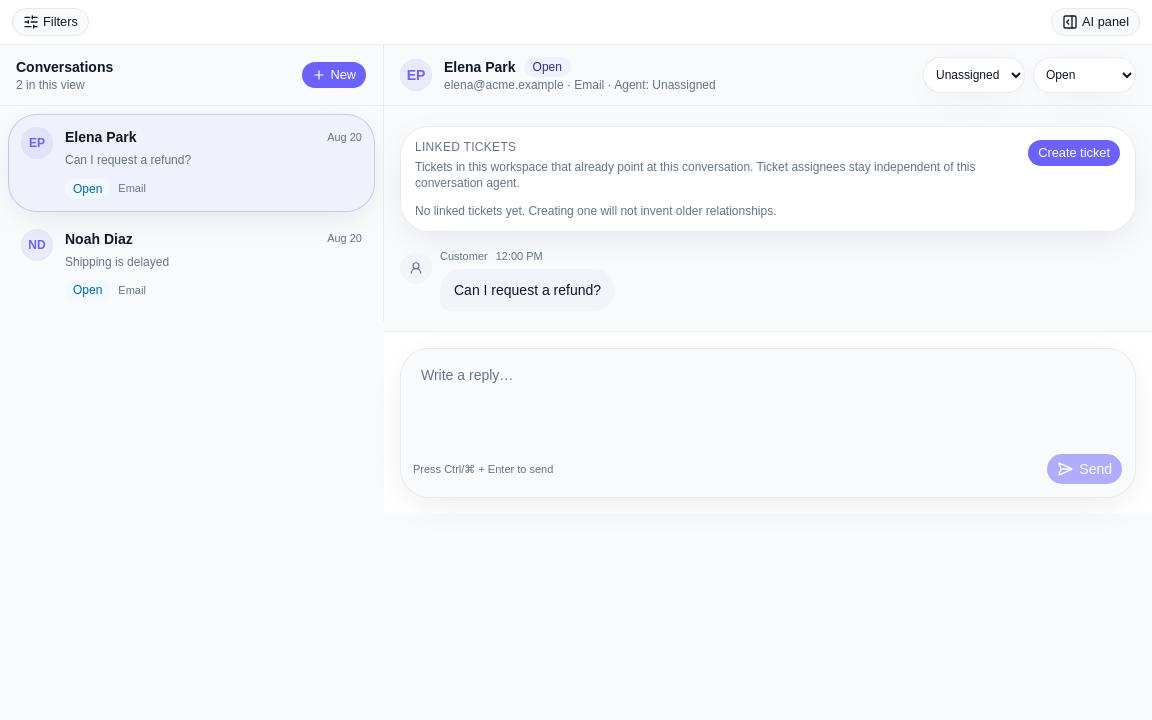
ConversationsInbox › loads another conversation when a list item is selected
Click the text "Noah Diaz".
click(99, 238)  # box [65,228,133,248]
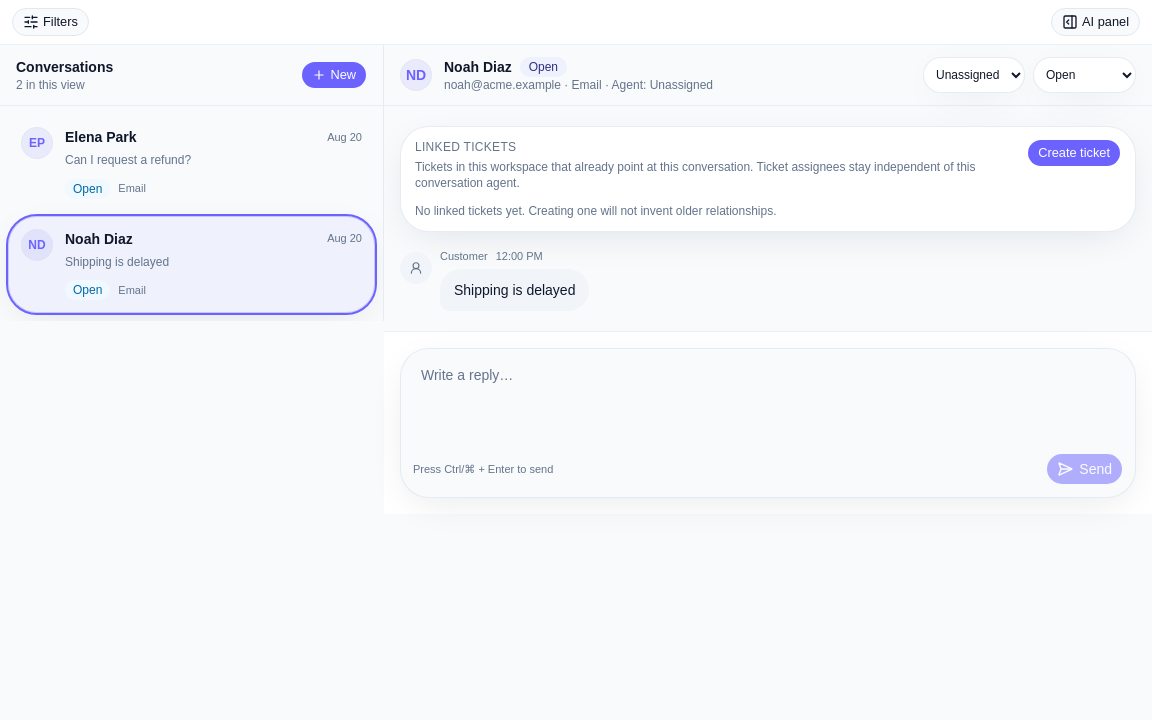
Check: the 1st text "Shipping is delayed" is shown, box [65,254,169,268]
Check: the heading "Noah Diaz" is shown, box [444,57,512,77]
